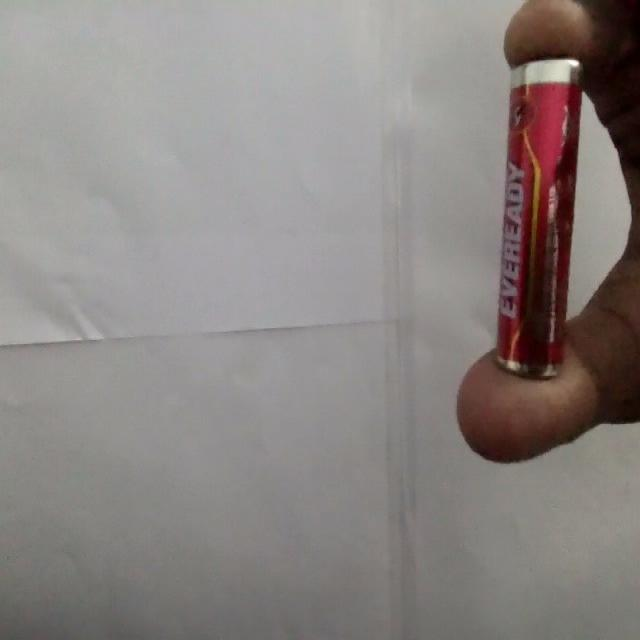battery: (498, 60, 581, 377)
dent: (554, 159, 571, 185)
